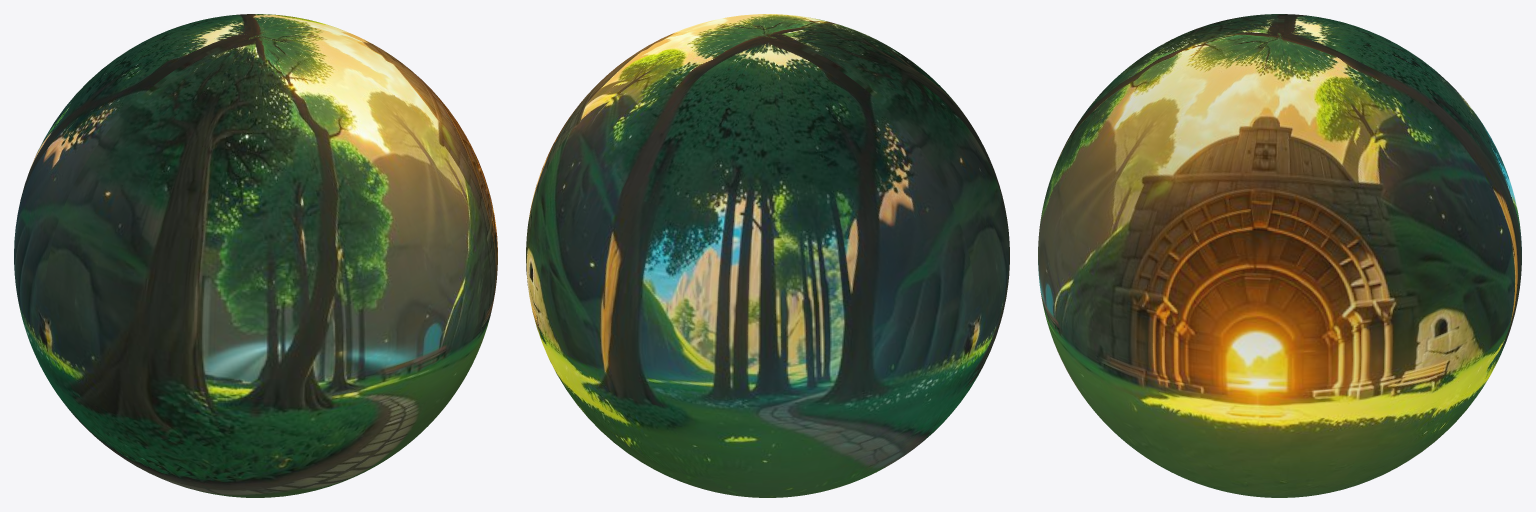
Rendered from world.glb.
3 renders of one model, left to right at view 1: azimuth 30°, elevation 25°; view 2: azimuth 150°, elevation 25°; view 3: azimuth 270°, elevation 25°, orthographic.
Visible parts, largest first — view 1: skybox_mesh; view 2: skybox_mesh; view 3: skybox_mesh.
Boxes of the visible parts, x1,y1,x2,y2 form: skybox_mesh: (14,14,497,497); skybox_mesh: (526,14,1009,497); skybox_mesh: (1038,14,1521,497).
Size of the model in its own units: 7.8 by 7.8 by 7.8.
Materials: 1 (1 with a texture image).
